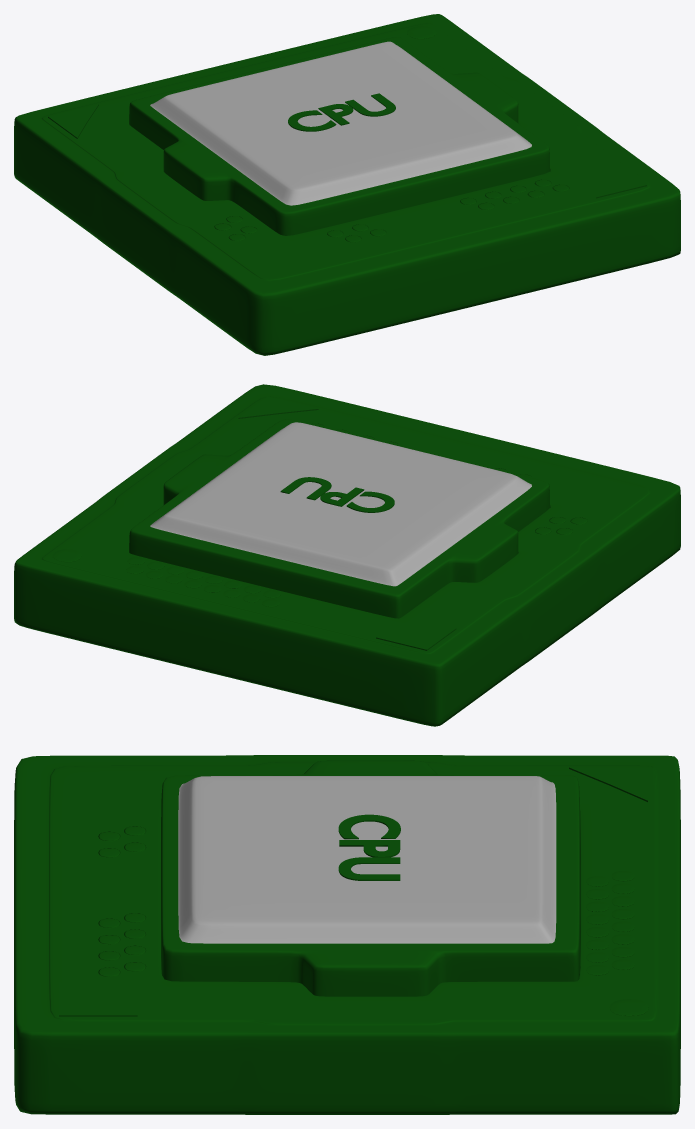
The model's file is Player_platform.fbx.
3 views of the same model, one above another, from view 1: azimuth 30°, elevation 25°; view 2: azimuth 150°, elevation 25°; view 3: azimuth 270°, elevation 25° (orthographic). The views are drawn at different scales.
Parts seen in each view (by area): view 1: CPu, Cpu; view 2: CPu, Cpu; view 3: CPu, Cpu.
Part boxes in pixels (x1,y1,x2,y2): CPu: (14,14,680,355); Cpu: (288,93,395,131); CPu: (14,384,680,726); Cpu: (280,477,394,512); CPu: (14,755,680,1114); Cpu: (338,814,400,880).
Size of the model in its own units: 633 by 138 by 637.
